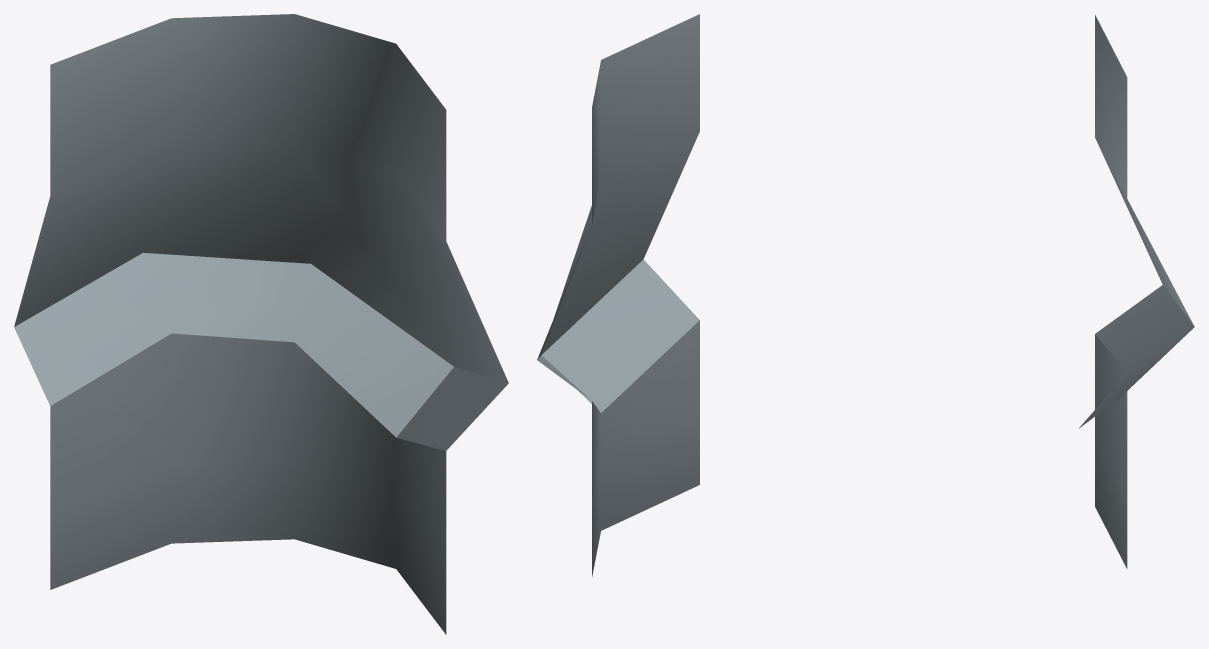
File: Hill_Cliff_G_InnerCorner_Color1.gltf
3 renders of one model, left to right at view 1: azimuth 30°, elevation 25°; view 2: azimuth 150°, elevation 25°; view 3: azimuth 270°, elevation 25°, orthographic. The views are drawn at different scales.
Parts seen in each view (by area): view 1: Hill_Cliff_G_InnerCorner_Color1; view 2: Hill_Cliff_G_InnerCorner_Color1; view 3: Hill_Cliff_G_InnerCorner_Color1.
Boxes of the visible parts, x1=… form: Hill_Cliff_G_InnerCorner_Color1: x1=14, y1=14, x2=508, y2=634; Hill_Cliff_G_InnerCorner_Color1: x1=537, y1=14, x2=699, y2=576; Hill_Cliff_G_InnerCorner_Color1: x1=1078, y1=15, x2=1194, y2=568.
Bounding box in the file's own units: 1.37 × 2 × 1.37.
1 material, 1 textured.
